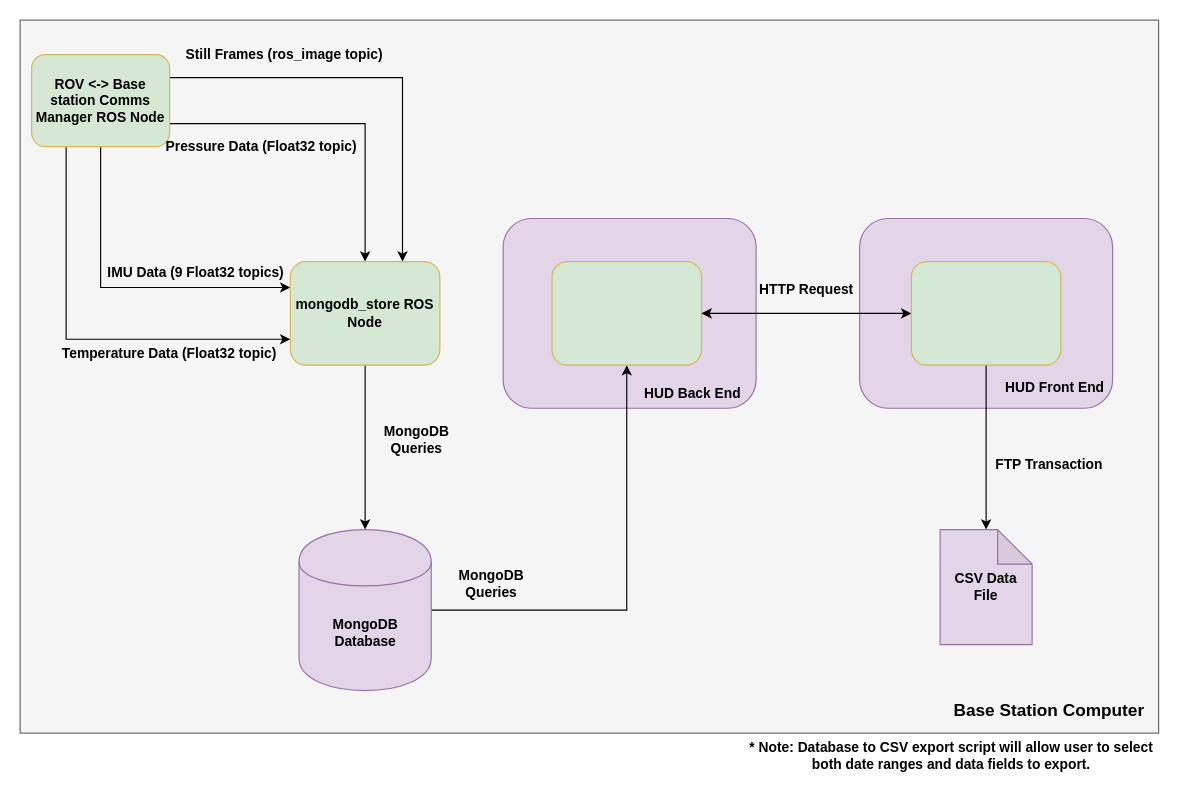
The diagram is 1179 pixels wide and 792 high, and some of its shapes have lost their labels. The shapes that lost their labels are listed below. From the top down, each one's centre as x and y in pixels, then its label:
the point at 626,312: * Database To CSV Data Export Script
the point at 985,312: PHP Script (To Call CSV Export Script)
